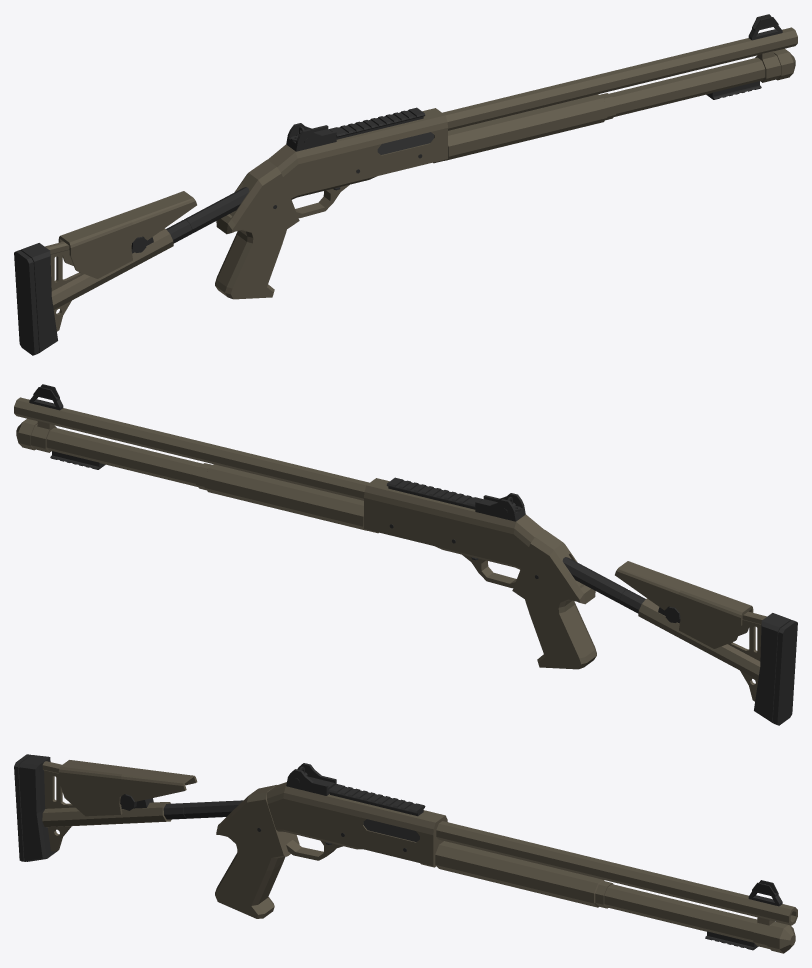
The model's file is Shotgun2_03.fbx.
The picture shows the model from 3 angles, top to bottom: view 1: azimuth 30°, elevation 25°; view 2: azimuth 150°, elevation 25°; view 3: azimuth 330°, elevation 25°; orthographic projection.
Visible parts, largest first — view 1: Shotgun2_03; view 2: Shotgun2_03; view 3: Shotgun2_03.
Boxes of the visible parts, box(x1,y1,x2,y2) form: Shotgun2_03: box(14, 14, 797, 355); Shotgun2_03: box(14, 384, 797, 725); Shotgun2_03: box(14, 754, 797, 953).
Bounding box in the file's own units: 1.21 × 0.235 × 0.0439.
